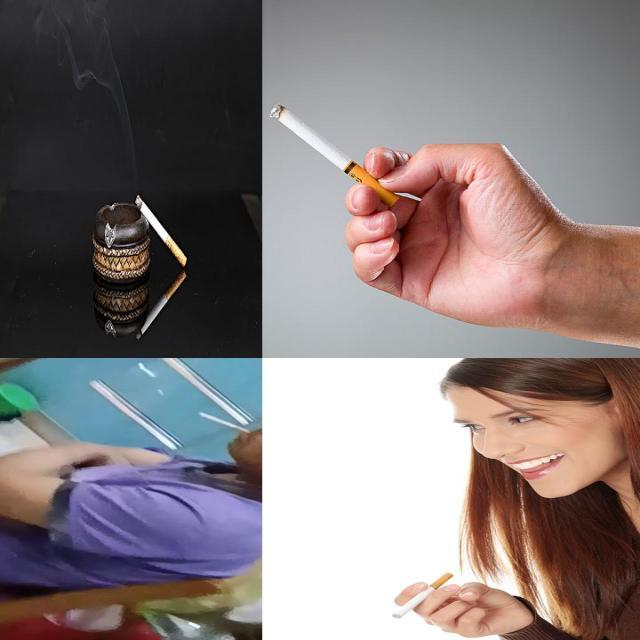smoking: (270, 99, 405, 211), (130, 269, 192, 341), (134, 190, 188, 268), (386, 570, 457, 620), (199, 412, 252, 434)
